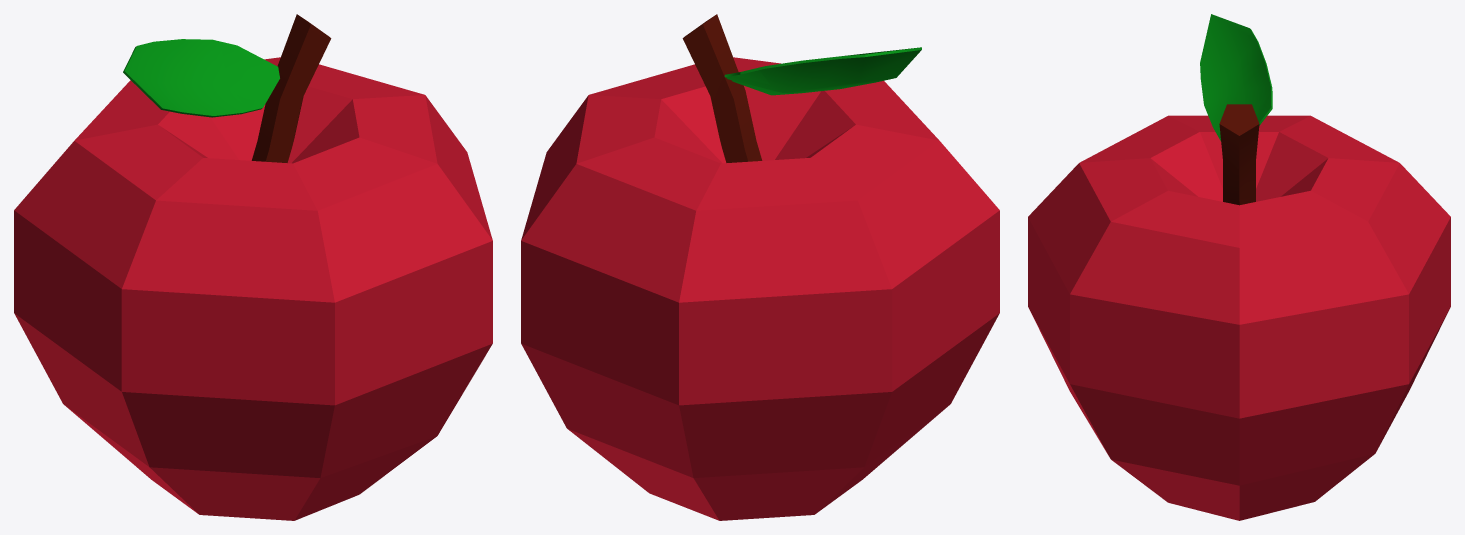
Rendered from Apple.fbx.
The picture shows the model from 3 angles, left to right: view 1: azimuth 30°, elevation 25°; view 2: azimuth 150°, elevation 25°; view 3: azimuth 270°, elevation 25°; orthographic projection. The views are drawn at different scales.
Visible parts, largest first — view 1: pSphere2; view 2: pSphere2; view 3: pSphere2.
Boxes of the visible parts, x1,y1,x2,y2 form: pSphere2: (14,14,492,520); pSphere2: (521,14,999,520); pSphere2: (1028,14,1450,520).
Bounding box in the file's own units: 1.85 × 2 × 1.9.
